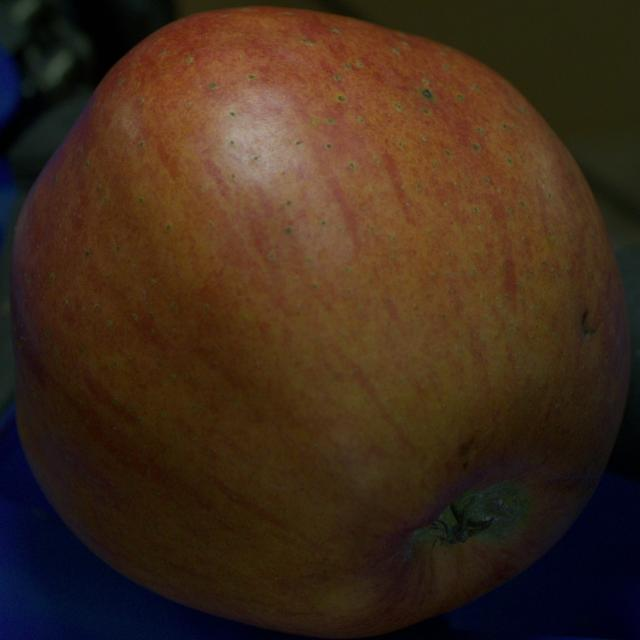apple: (11, 9, 631, 637)
pest: (421, 89, 434, 99)
scratch: (581, 311, 594, 335)
